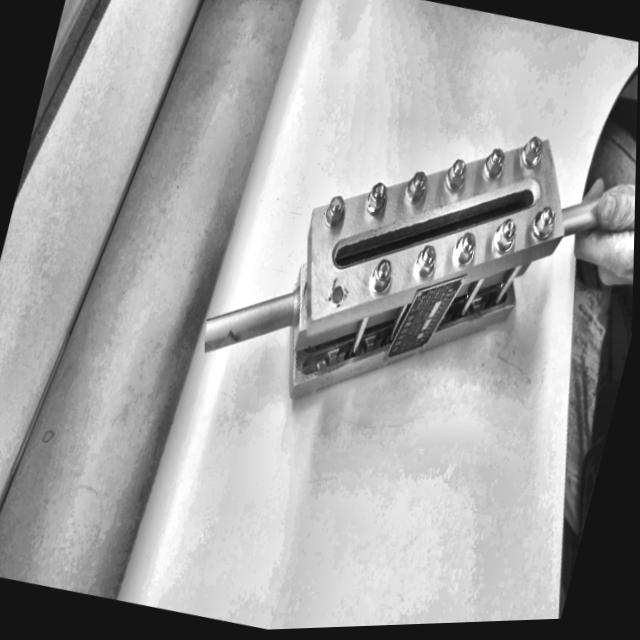ShuiWeiQi_11: (193, 32, 599, 465)
